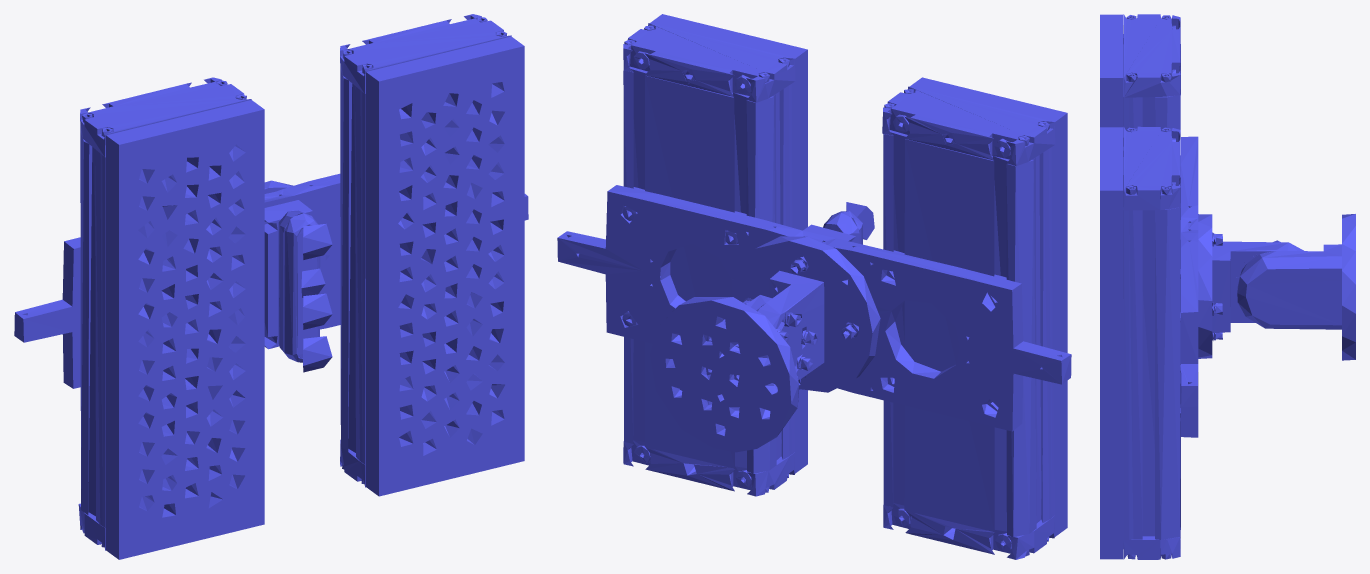
File: fanuctool.dae
The picture shows the model from 3 angles, left to right: view 1: azimuth 30°, elevation 25°; view 2: azimuth 150°, elevation 25°; view 3: azimuth 270°, elevation 25°; orthographic projection. The views are drawn at different scales.
Visible parts, largest first — view 1: Fanuctool; view 2: Fanuctool; view 3: Fanuctool.
Boxes of the visible parts, x1,y1,x2,y2 form: Fanuctool: (14,14,528,559); Fanuctool: (557,14,1071,559); Fanuctool: (1100,14,1355,559).
Bounding box in the file's own units: 0.4471 × 0.2208 × 0.3525.
